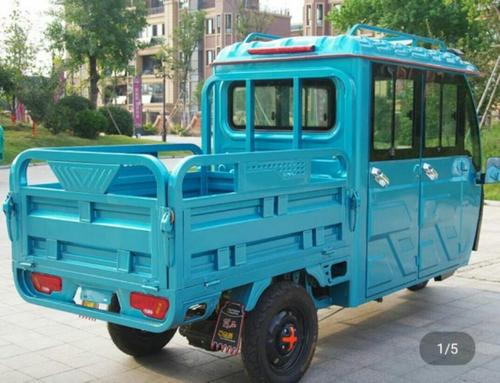tricycle: (24, 34, 485, 368)
